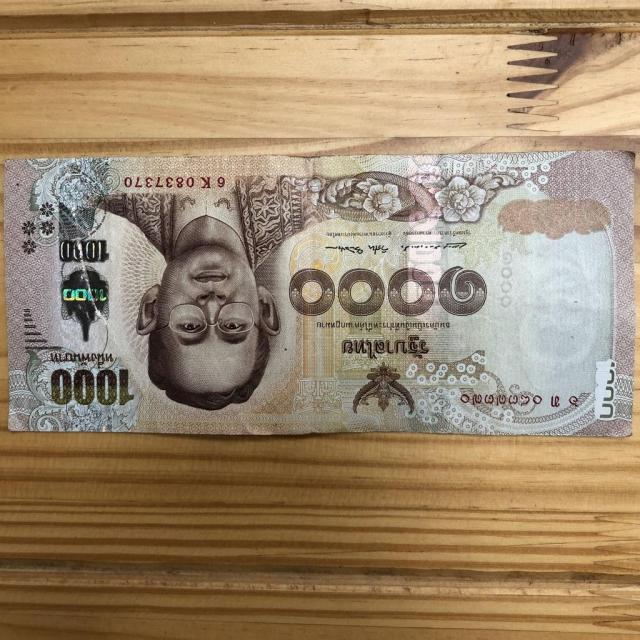THAI1000: (2, 149, 637, 444)
